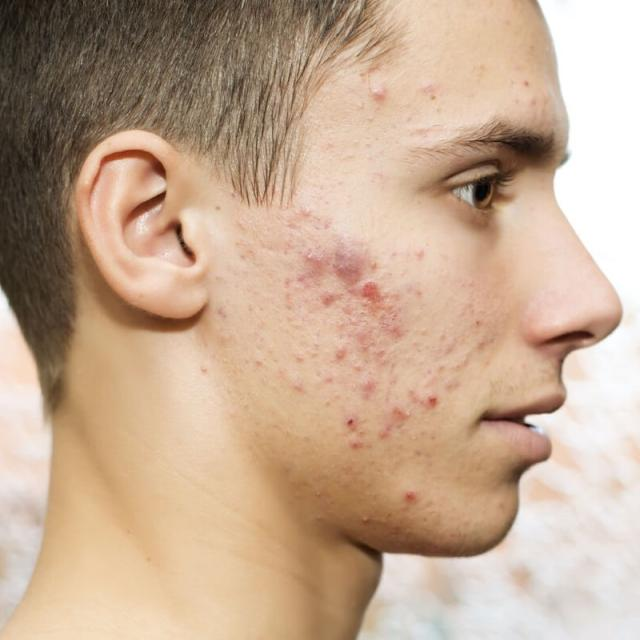Acne: (26, 29, 598, 590), (29, 33, 594, 587)
